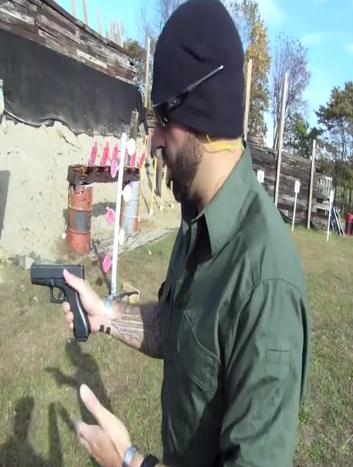pistol: (29, 260, 92, 342)
